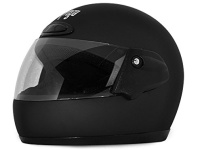Helmet: (11, 2, 186, 147)
